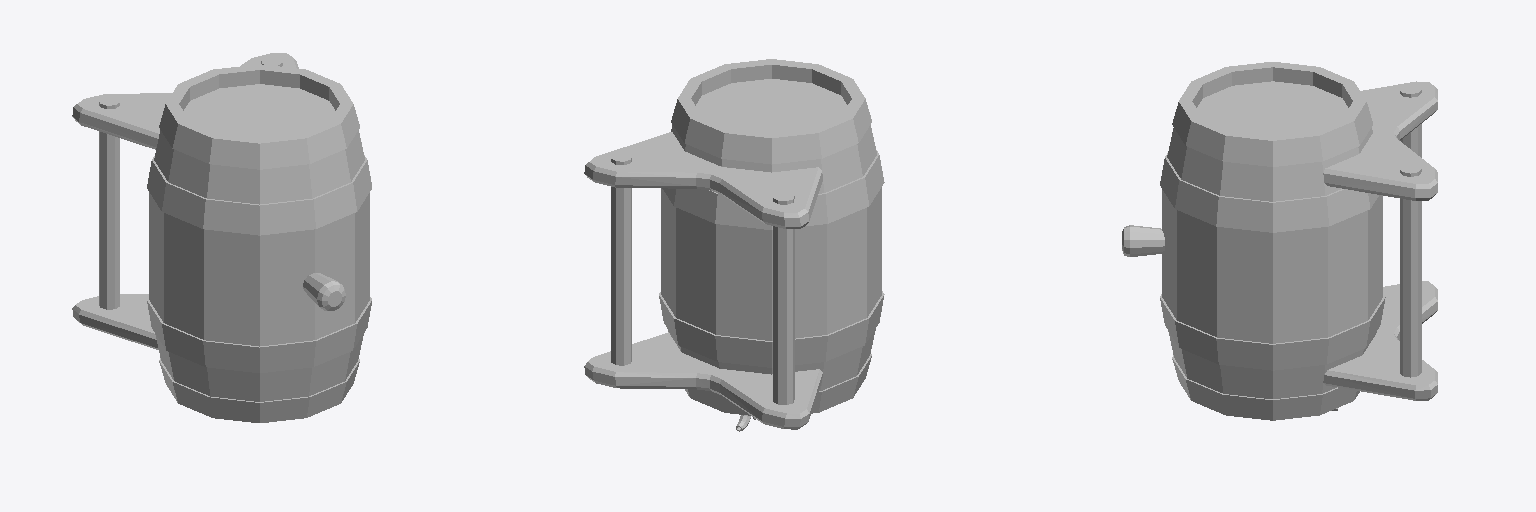
The model's file is OilCask.obj.
3 renders of one model, left to right at view 1: azimuth 30°, elevation 25°; view 2: azimuth 150°, elevation 25°; view 3: azimuth 270°, elevation 25°, orthographic.
Visible parts, largest first — view 1: OilCask; view 2: OilCask; view 3: OilCask.
Boxes of the visible parts, box(x1,y1,x2,y2) form: OilCask: box(72, 53, 371, 422); OilCask: box(584, 59, 884, 431); OilCask: box(1122, 62, 1437, 420).
Bounding box in the file's own units: 2.29 × 3.1 × 2.87.